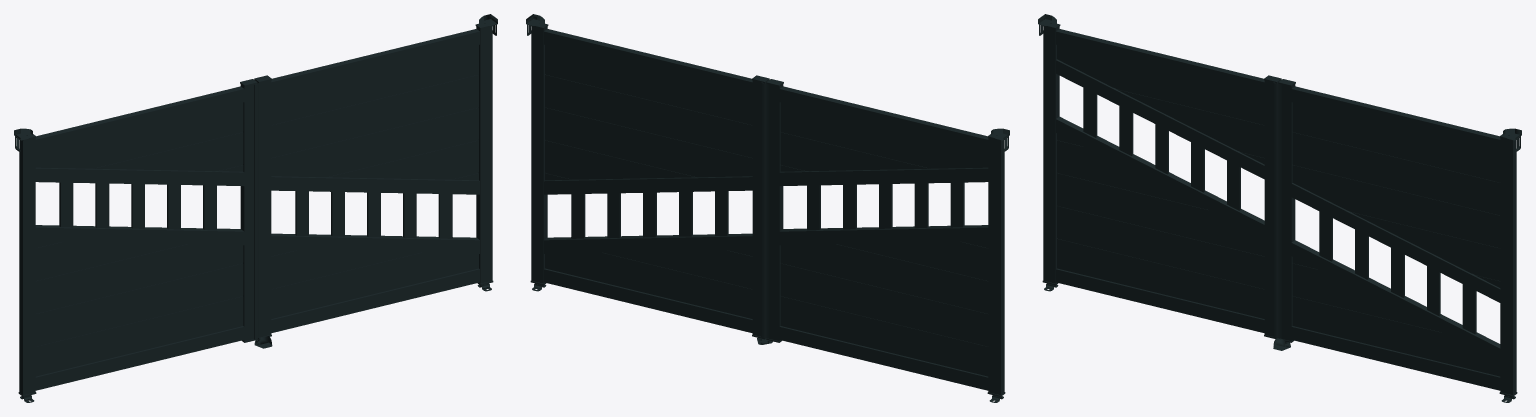
3 renders of one model, left to right at view 1: azimuth 30°, elevation 25°; view 2: azimuth 150°, elevation 25°; view 3: azimuth 330°, elevation 25°, orthographic.
Visible parts, largest first — view 1: folha2, folha1, priximbattable_net_portail_aluminium_battant_1670_portail_ch; view 2: folha1, folha2, priximbattable_net_portail_aluminium_battant_1670_portail_ch; view 3: folha2, folha1, priximbattable_net_portail_aluminium_battant_1670_portail_ch.
Part boxes in pixels (left/top/right/bottom): folha2: left=254, top=23, right=493, bottom=339; folha1: left=18, top=79, right=257, bottom=396; priximbattable_net_portail_aluminium_battant_1670_portail_ch: left=14, top=14, right=497, bottom=402; folha1: left=761, top=79, right=1005, bottom=396; folha2: left=530, top=23, right=769, bottom=339; priximbattable_net_portail_aluminium_battant_1670_portail_ch: left=526, top=14, right=1009, bottom=402; folha2: left=1273, top=79, right=1517, bottom=396; folha1: left=1042, top=23, right=1281, bottom=338; priximbattable_net_portail_aluminium_battant_1670_portail_ch: left=1038, top=14, right=1521, bottom=402.
Bounding box in the file's own units: 304 × 164 × 12.81.
Materials: 1 (1 with a texture image).
